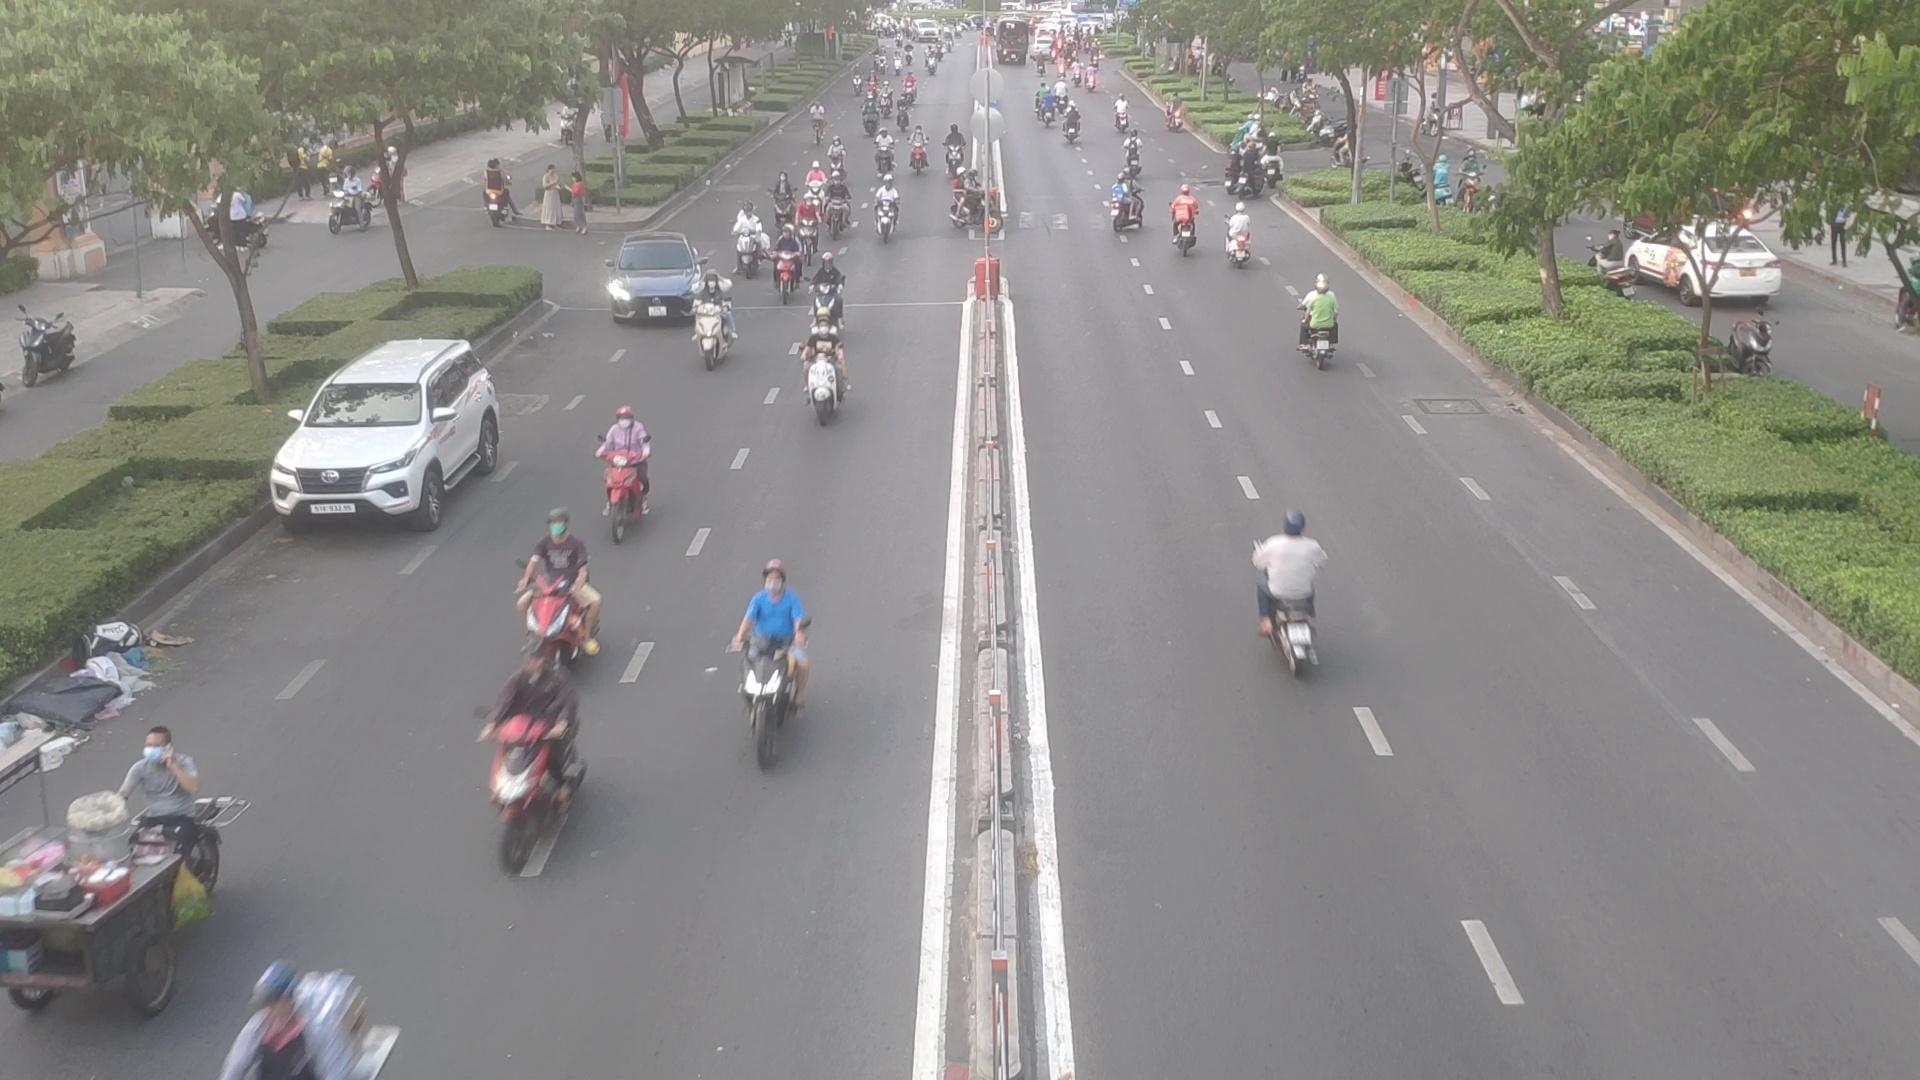car: (274, 338, 518, 531), (601, 240, 709, 326)
motorbike: (477, 658, 593, 858), (199, 967, 398, 1080), (731, 572, 820, 761), (1246, 510, 1333, 669), (116, 727, 208, 866), (516, 525, 600, 649), (589, 410, 658, 527), (796, 331, 858, 421), (1288, 282, 1348, 365), (945, 169, 1004, 237), (691, 298, 746, 369), (767, 229, 804, 297), (811, 258, 844, 334), (1102, 179, 1143, 236), (1167, 191, 1203, 255), (868, 182, 903, 241), (1226, 210, 1261, 266), (732, 228, 764, 277), (795, 199, 820, 257), (825, 173, 849, 233), (800, 164, 825, 216), (1120, 131, 1145, 177), (771, 171, 793, 225), (872, 127, 899, 167), (910, 135, 936, 177), (943, 124, 964, 177), (825, 136, 847, 186)
